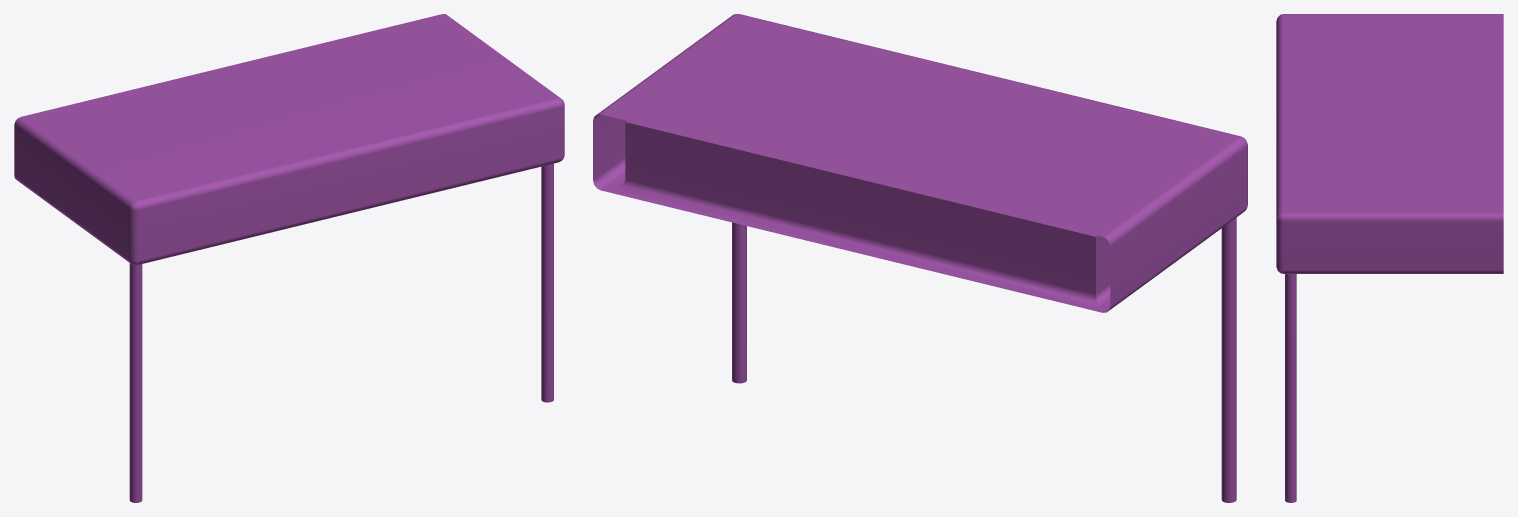
Rendered from SM_ShopCover.fbx.
3 views of the same model, side by side, from view 1: azimuth 30°, elevation 25°; view 2: azimuth 150°, elevation 25°; view 3: azimuth 270°, elevation 25° (orthographic). The views are drawn at different scales.
Visible parts, largest first — view 1: SM_ShopCover; view 2: SM_ShopCover; view 3: SM_ShopCover.
Boxes of the visible parts, x1=… form: SM_ShopCover: x1=14, y1=14, x2=564, y2=502; SM_ShopCover: x1=593, y1=14, x2=1247, y2=502; SM_ShopCover: x1=1276, y1=14, x2=1503, y2=502.
Size of the model in its own units: 450 by 300 by 212.
